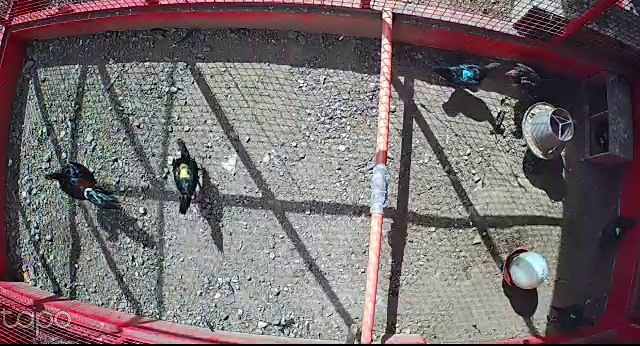Chicken: (170, 134, 212, 216), (432, 61, 503, 94), (595, 213, 638, 252), (546, 301, 600, 332)
Drinker: (503, 248, 549, 290)
Feeder: (521, 101, 576, 161)
Rooster: (41, 160, 122, 212)
Saddle_Color_Blue: (462, 69, 474, 80)
Saddle_Color_Yellow: (179, 162, 192, 180)
